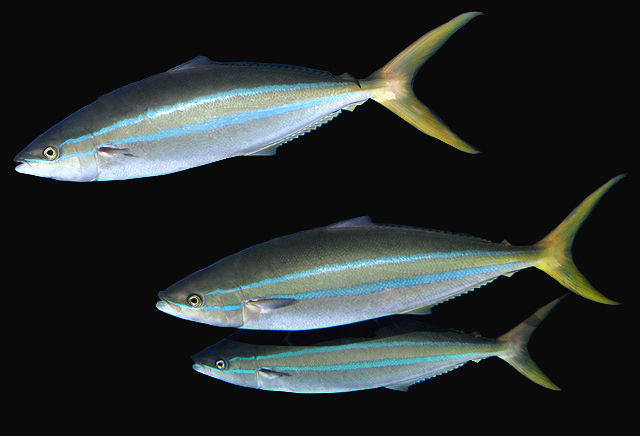fish: (14, 12, 484, 182), (156, 174, 625, 330), (193, 290, 572, 394)
